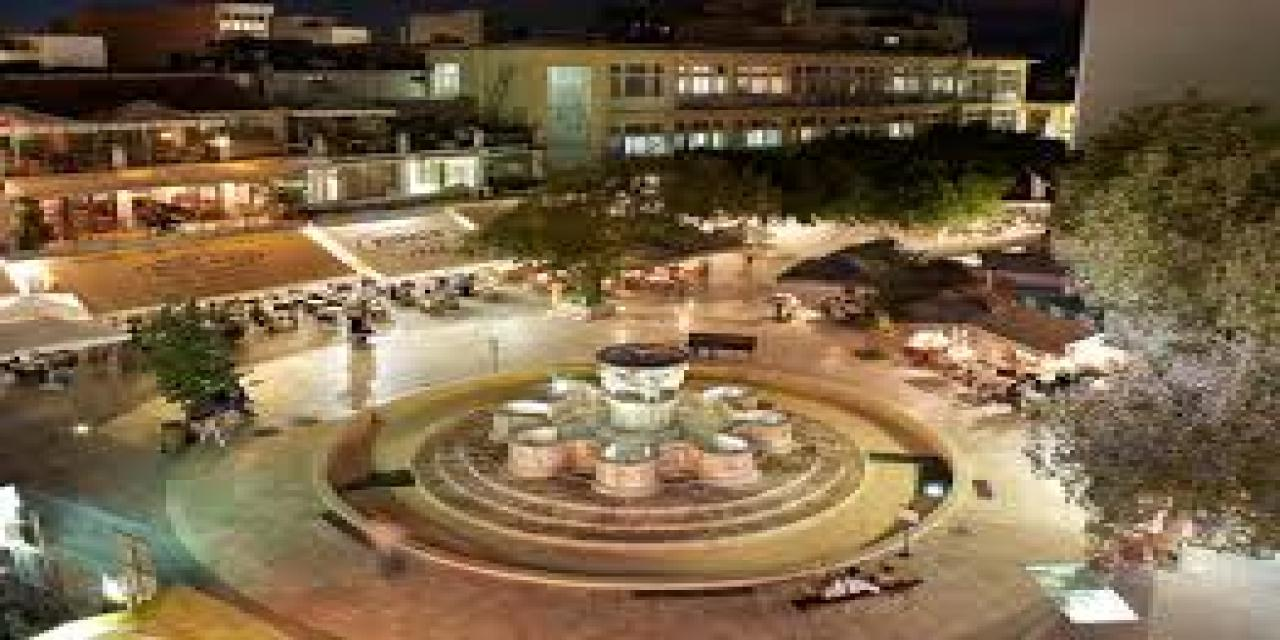Liontaria: (486, 347, 804, 495)
